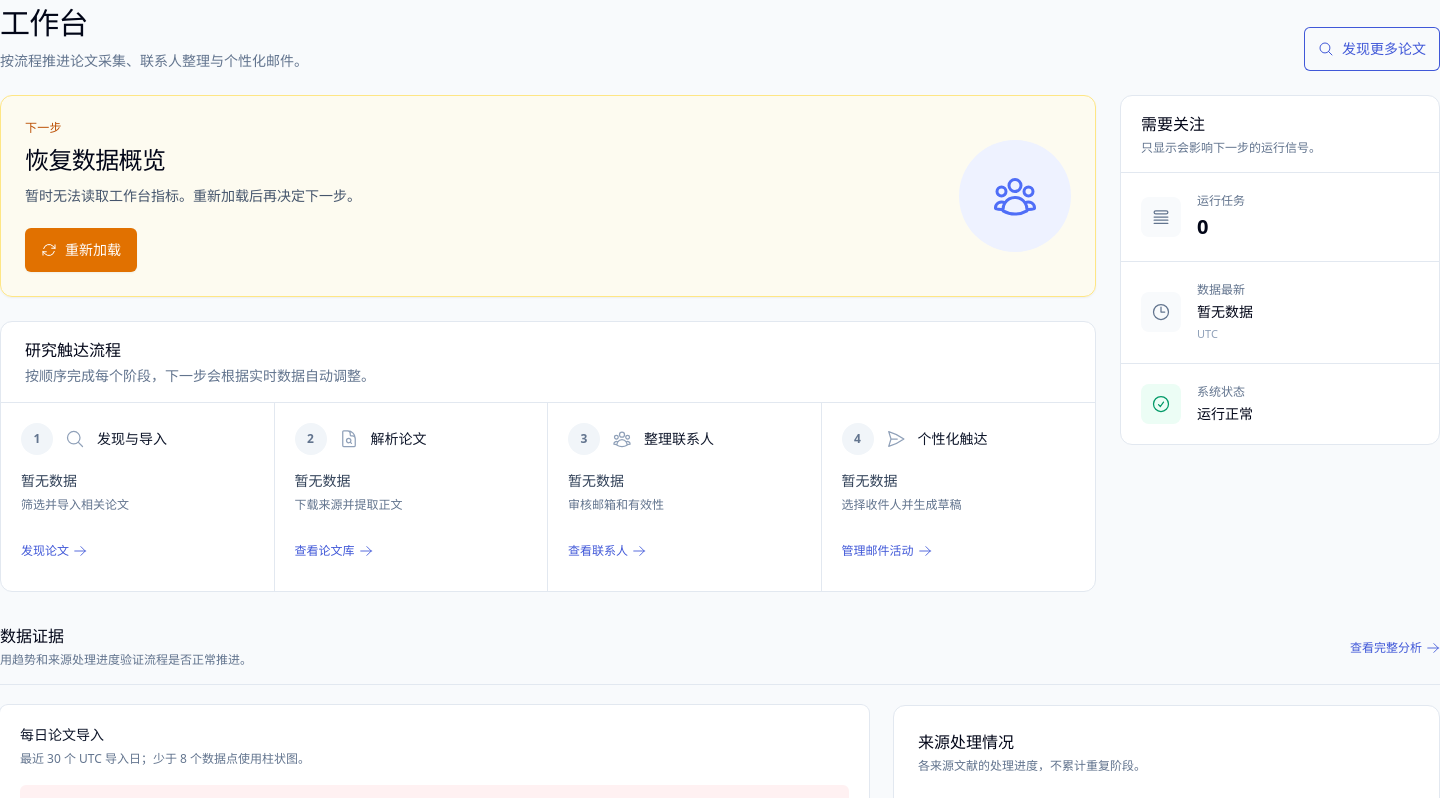
Test: DashboardView › promotes a retry action when analytics fails and reloads through the real API boundary
What coordinates should you click on to do the following:
click the button "重新加载"
I would click on:
 (81, 250)
Its box is [25,228,137,272].
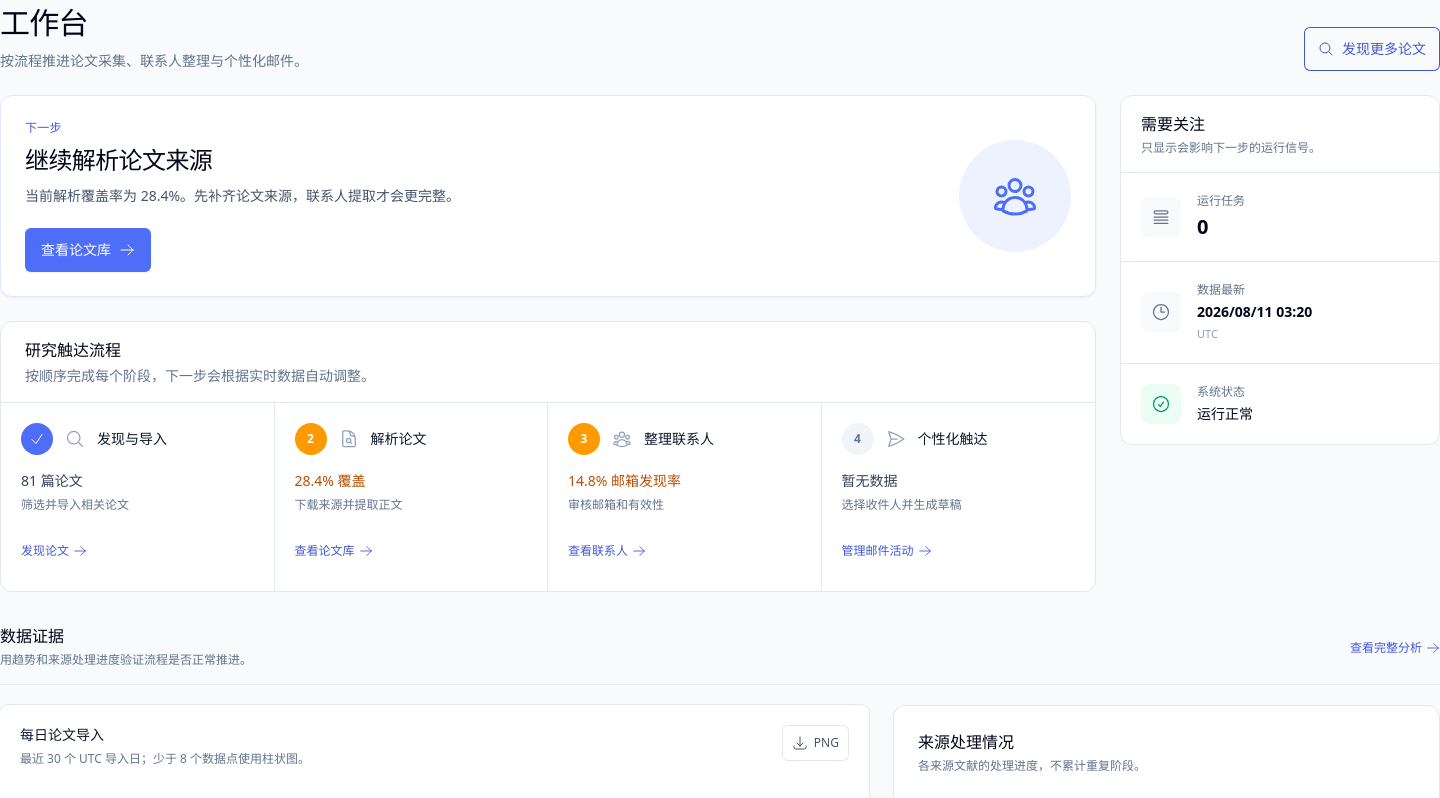
Expected: the text "继续解析论文来源" is shown, [25,143,212,176]
